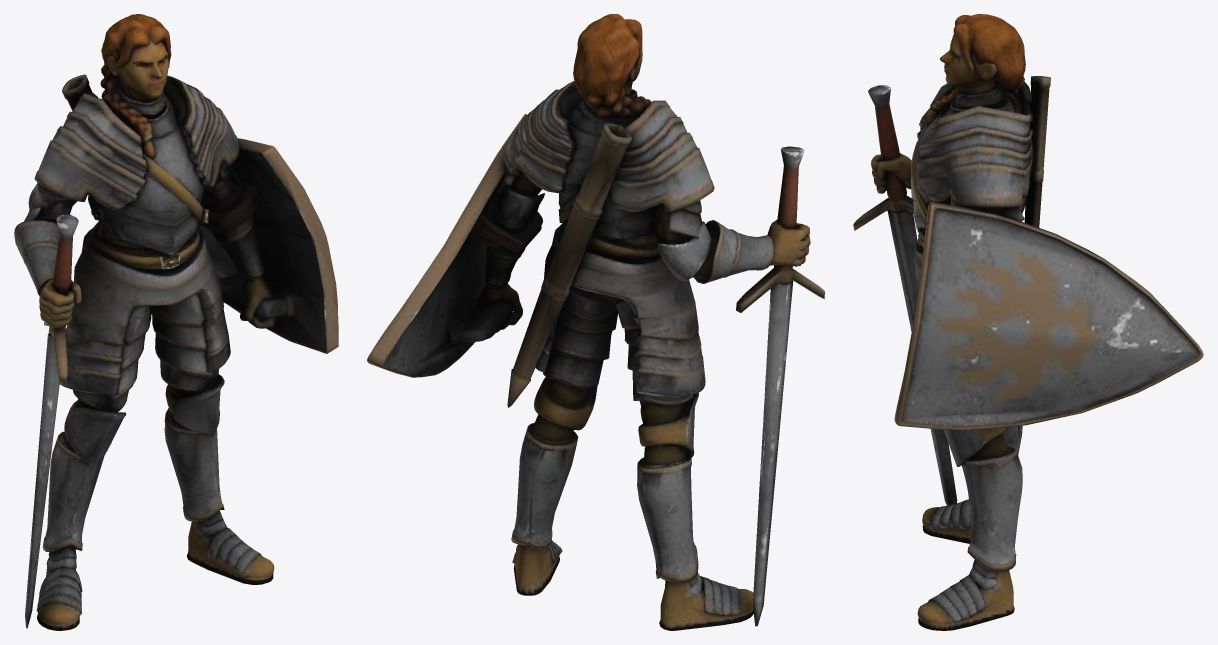
File: MZ4250 - Human Female Paladin 4d.glb
The picture shows the model from 3 angles, left to right: view 1: azimuth 30°, elevation 25°; view 2: azimuth 150°, elevation 25°; view 3: azimuth 270°, elevation 25°; orthographic projection. The views are drawn at different scales.
Parts seen in each view (by area): view 1: Human Female Paladin 4.001; view 2: Human Female Paladin 4.001; view 3: Human Female Paladin 4.001.
Boxes of the visible parts, <box> form: Human Female Paladin 4.001: <box>14,14,338,630</box>; Human Female Paladin 4.001: <box>367,14,824,630</box>; Human Female Paladin 4.001: <box>853,14,1203,630</box>.
Size of the model in its own units: 19.77 by 35.34 by 19.9.
Materials: 1 (1 with a texture image).
